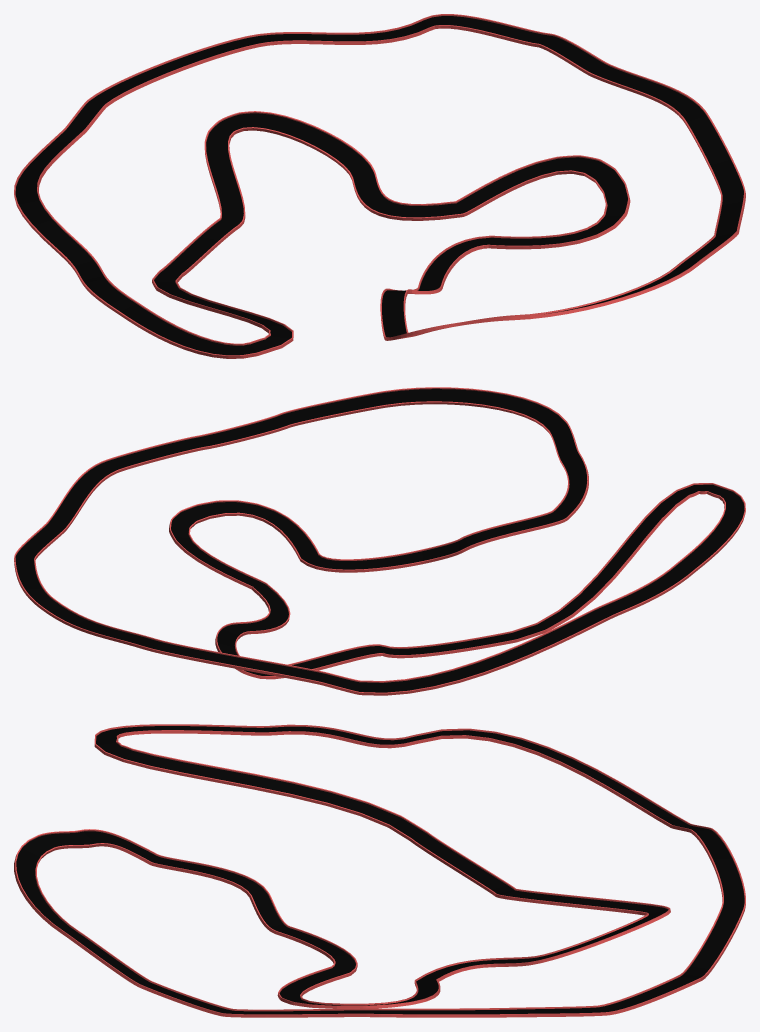
Rendered from Road.glb.
3 renders of one model, top to bottom at view 1: azimuth 30°, elevation 25°; view 2: azimuth 150°, elevation 25°; view 3: azimuth 270°, elevation 25°, orthographic. The views are drawn at different scales.
Visible parts, largest first — view 1: Plane; view 2: Plane; view 3: Plane.
Part boxes in pixels (x1,y1,x2,y2): Plane: [14, 14, 745, 358]; Plane: [14, 387, 745, 695]; Plane: [14, 724, 745, 1017].
Size of the model in its own units: 901 by 124 by 937.
